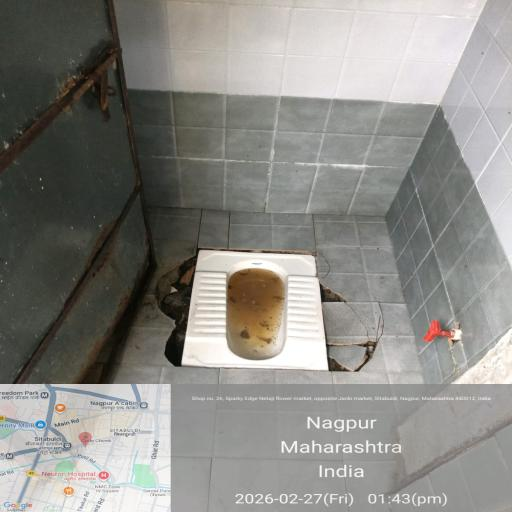clean_floor: (51, 12, 479, 211), (54, 396, 463, 512)
damage: (136, 234, 228, 379)
dirty_indian: (165, 238, 334, 426)
